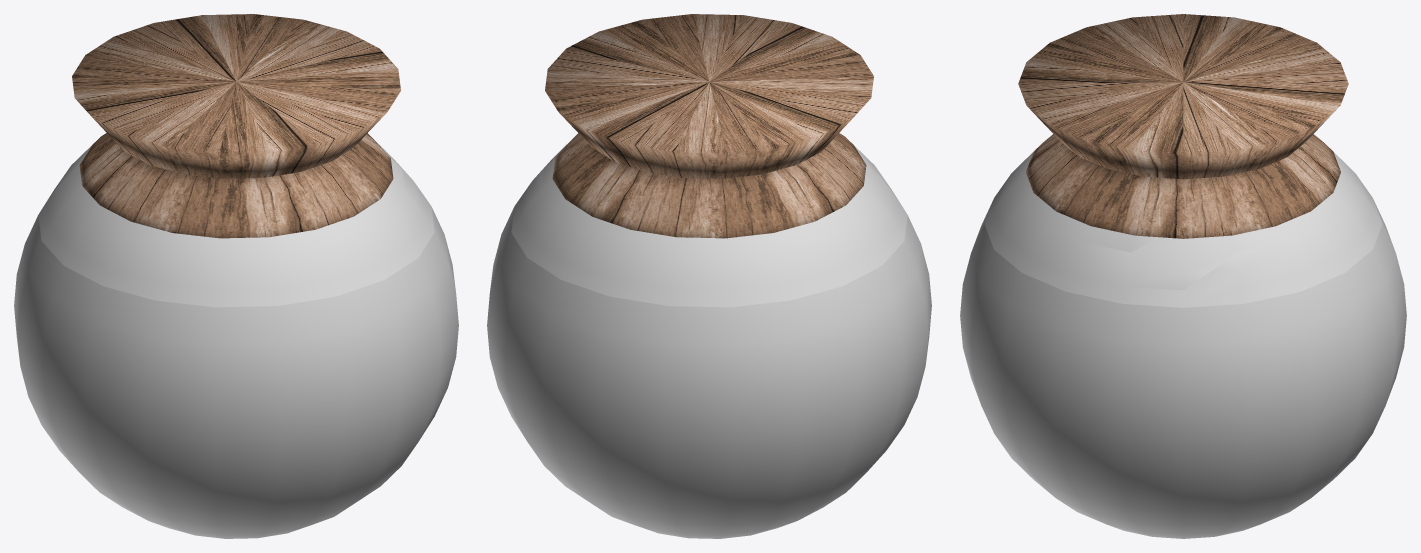
The model's file is crystallBall.fbx.
3 views of the same model, side by side, from view 1: azimuth 30°, elevation 25°; view 2: azimuth 150°, elevation 25°; view 3: azimuth 270°, elevation 25° (orthographic).
Visible parts, largest first — view 1: polySurface4, polySurface3; view 2: polySurface4, polySurface3; view 3: polySurface4, polySurface3.
Part boxes in pixels (x1,y1,x2,y2): polySurface4: (14,140,458,538); polySurface3: (72,14,400,238); polySurface4: (487,140,931,538); polySurface3: (545,14,873,238); polySurface4: (960,152,1406,538); polySurface3: (1018,14,1348,238).
Bounding box in the file's own units: 8.83 × 9.5 × 8.83.
Materials: 2 (1 with a texture image).
